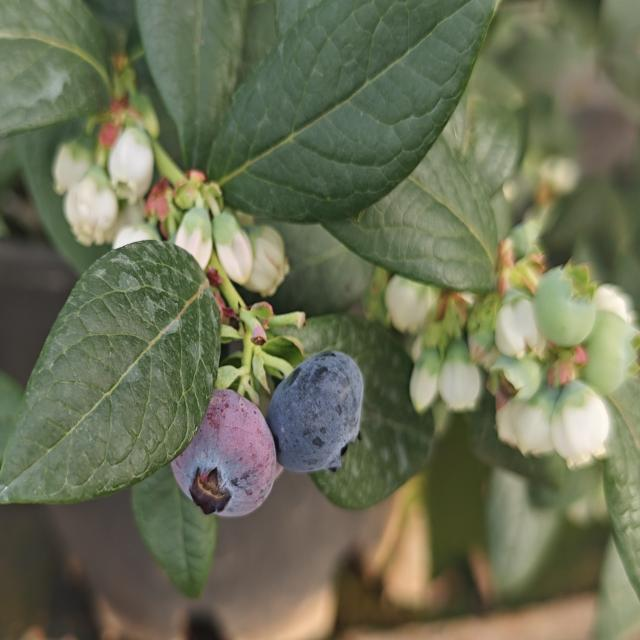ripe: (157, 380, 280, 542), (251, 331, 369, 484)
